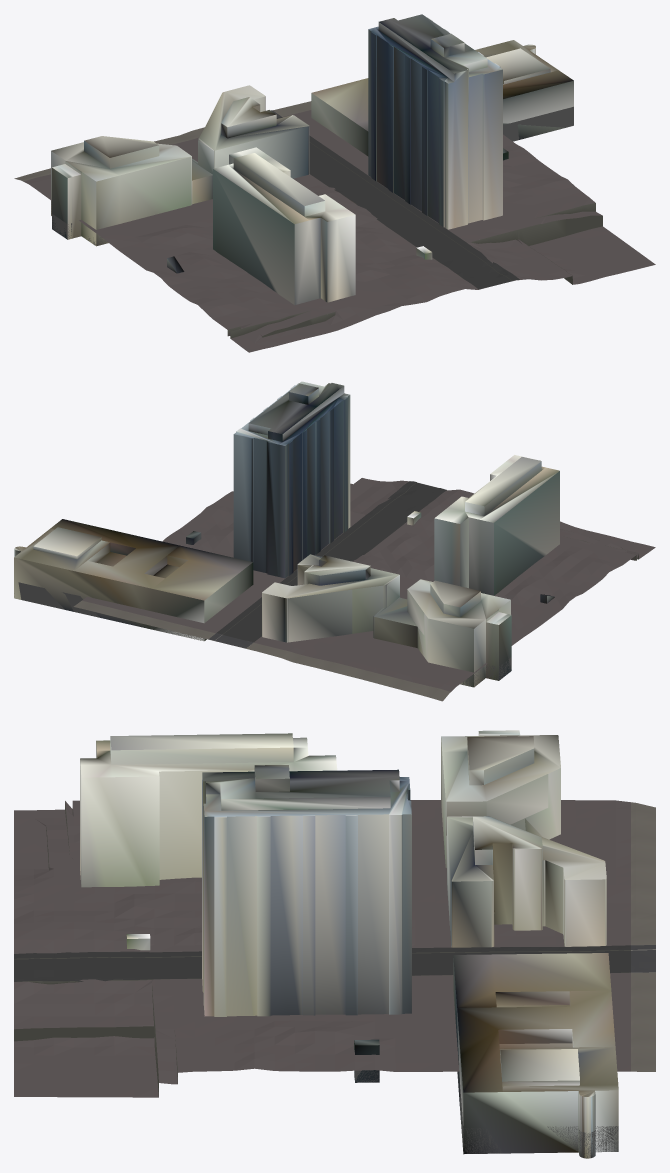
3 views of the same model, one above another, from view 1: azimuth 30°, elevation 25°; view 2: azimuth 150°, elevation 25°; view 3: azimuth 270°, elevation 25° (orthographic). The views are drawn at different scales.
Parts seen in each view (by area): view 1: append:c_p03_m09, c_p03_m09; view 2: append:c_p03_m09, c_p03_m09; view 3: append:c_p03_m09, c_p03_m09.
Part boxes in pixels (box(x1,y1,x2,y2)): append:c_p03_m09: box(23, 14, 655, 352); c_p03_m09: box(14, 101, 432, 305); append:c_p03_m09: box(14, 381, 655, 691); c_p03_m09: box(73, 455, 559, 701); append:c_p03_m09: box(14, 730, 630, 1158); c_p03_m09: box(80, 733, 655, 1071).
Size of the model in its own units: 160 by 57.26 by 128.
